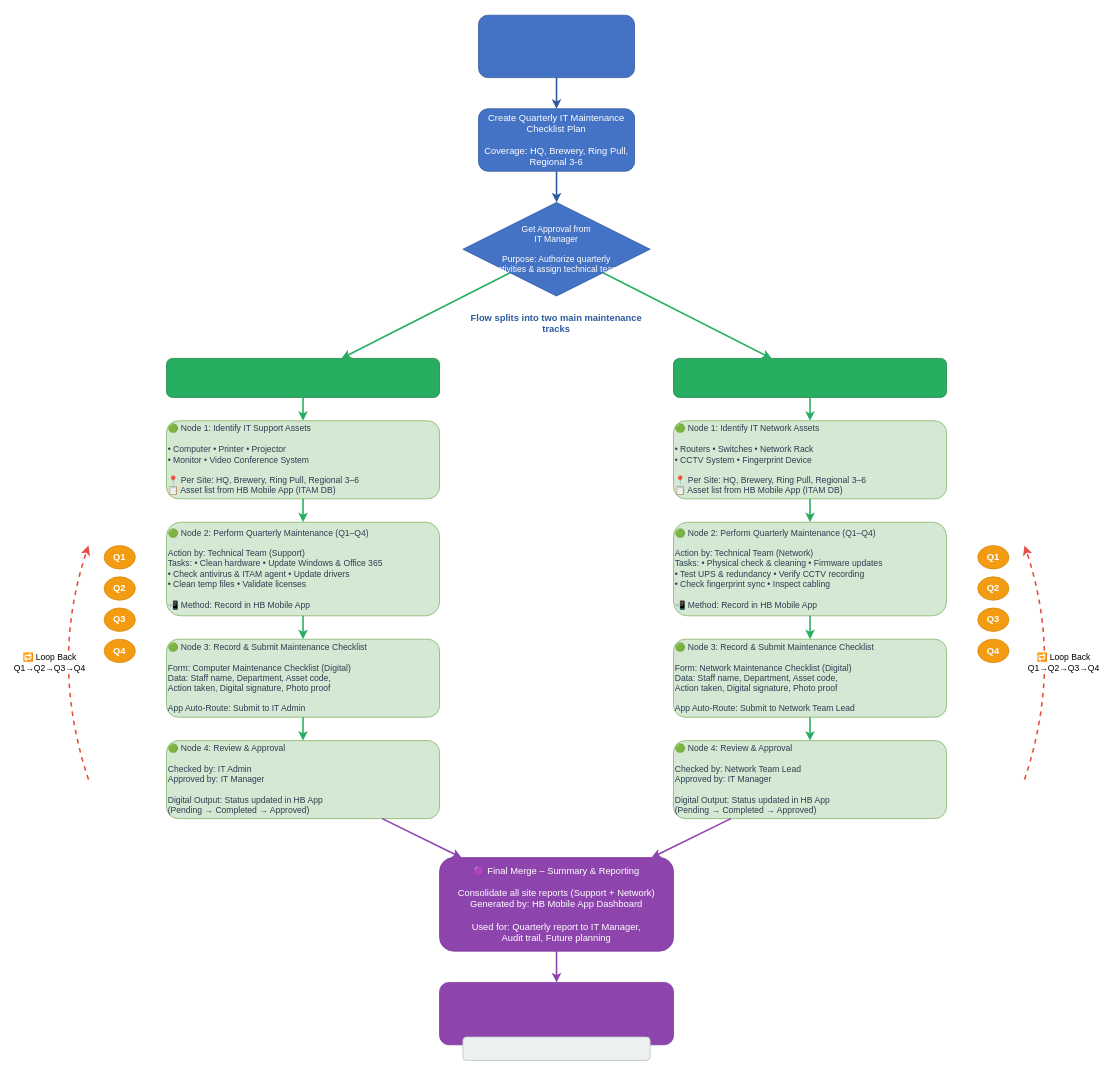
Some shapes in this 1113 by 1074 pixel diagram are drawn without their labels. Here are the shapes that lost their labels. From the top down, the centre of each, then its label:
the point at 556,46: IT Maintenance Plan (Quarterly) Responsible: Supervisor IT Customer Service (CS)
the point at 303,377: 🔹 Branch 1: IT Support Maintenance (Digitalized)
the point at 810,377: 🔹 Branch 2: IT Network Maintenance
the point at 556,1013: ➡️ End Node: IT Maintenance Cycle Completed (Quarterly Summary Generated)
the point at 556,1048: Sites: HQ | Brewery | Ring Pull | Regional 3-6
